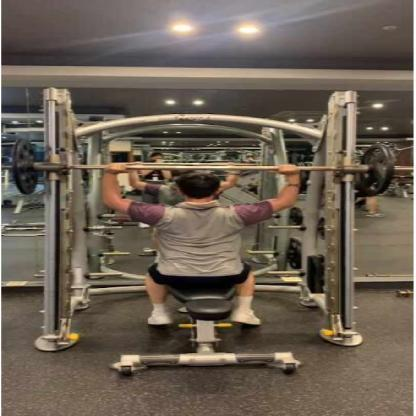smith machine: (35, 86, 365, 354)
